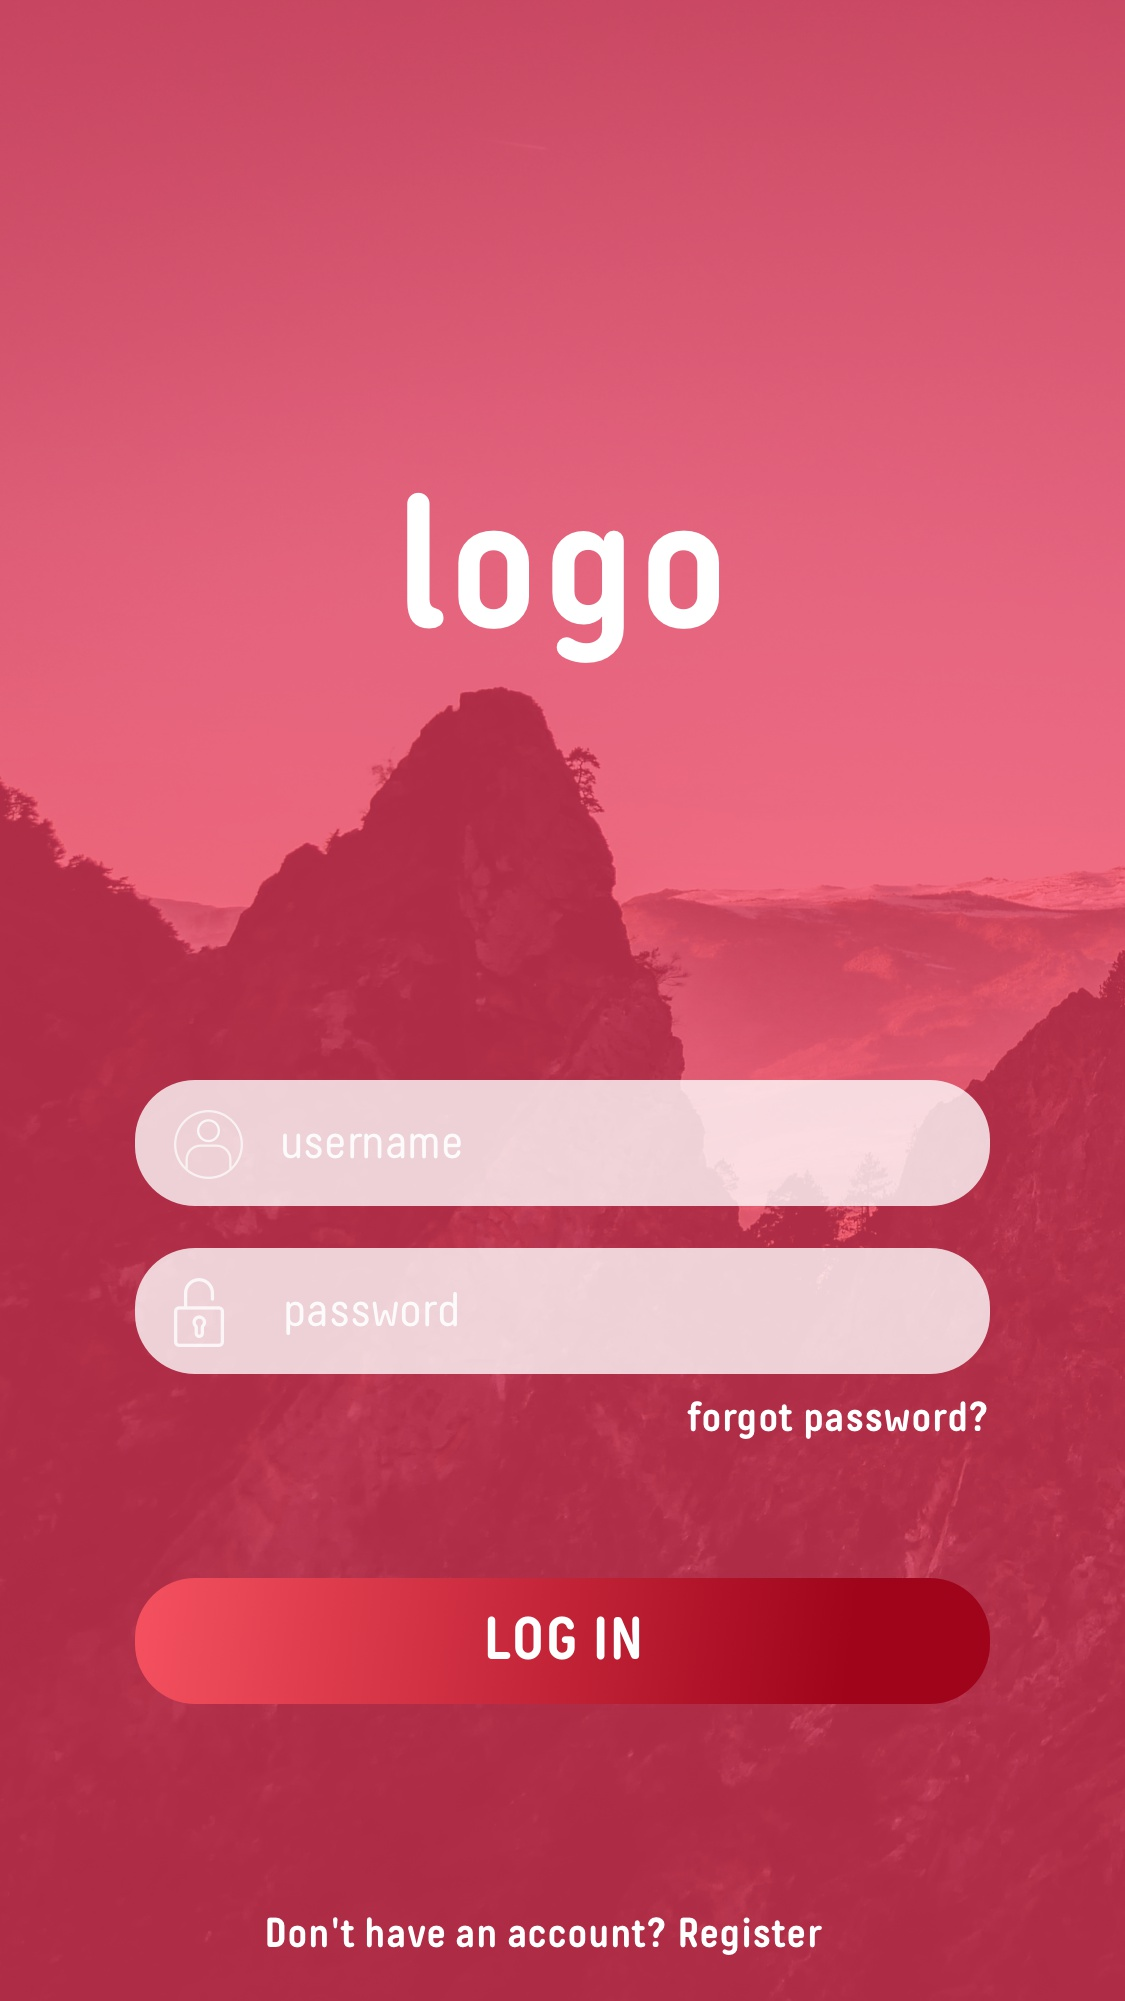BackgroundImage: (1, 1, 1125, 2001)
EditText: (135, 1080, 990, 1207), (135, 1248, 990, 1374)
Icon: (174, 1110, 245, 1181), (174, 1277, 225, 1348)
Text: (407, 492, 721, 665), (266, 1914, 824, 1957), (687, 1399, 988, 1442), (286, 1290, 457, 1337), (282, 1132, 462, 1160)
TextButton: (135, 1578, 990, 1706)
